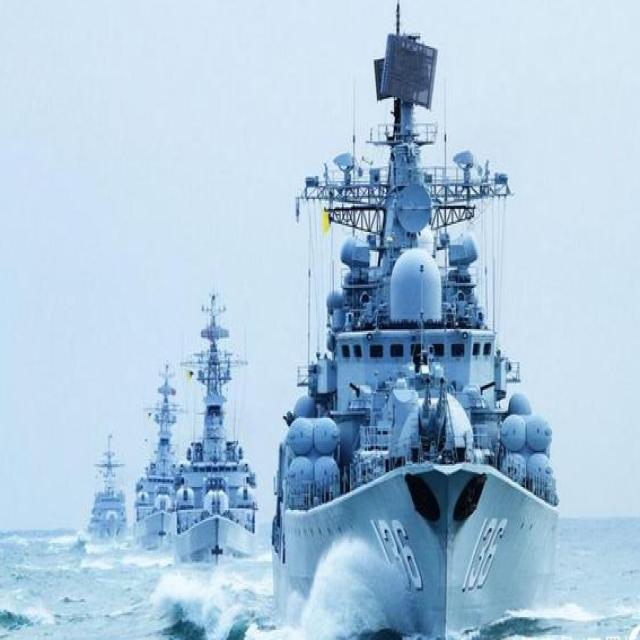navalvessels: (270, 18, 571, 640), (174, 302, 258, 576), (128, 366, 187, 544), (88, 442, 135, 552)
